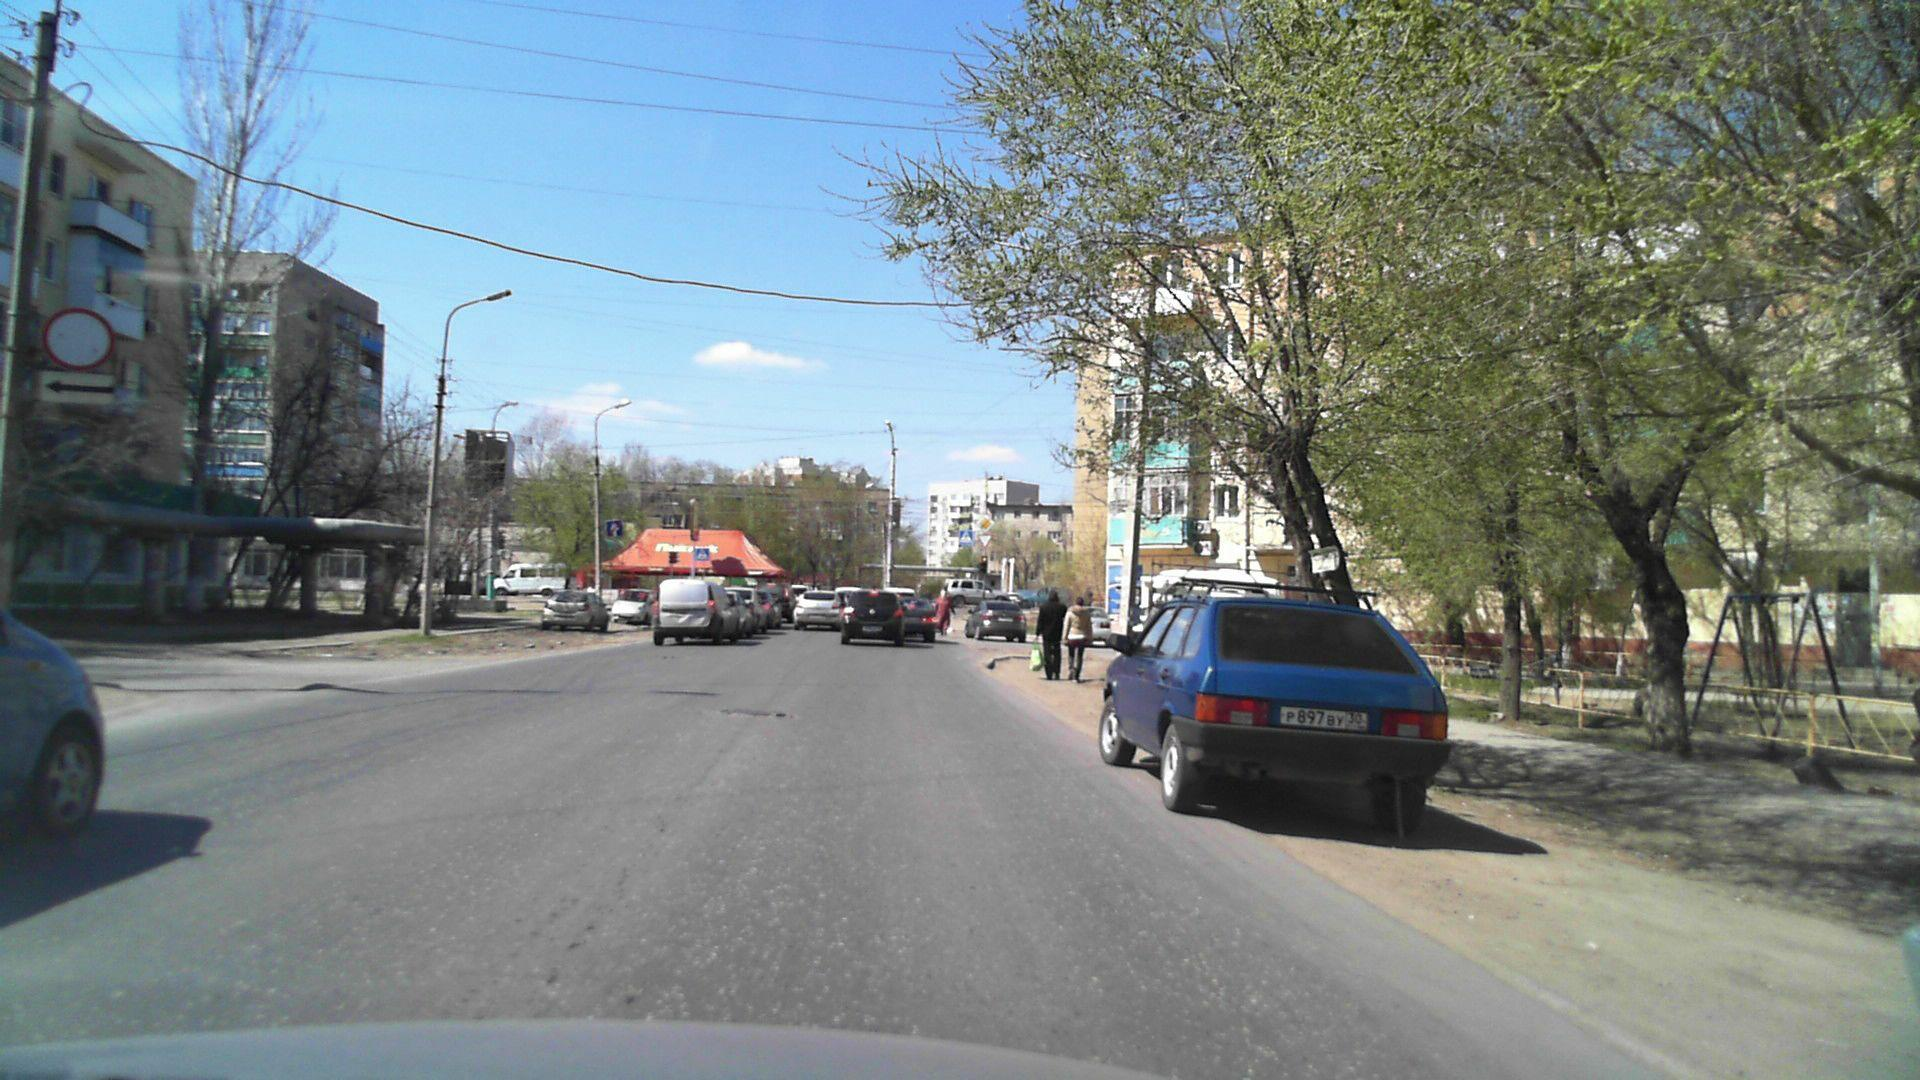2_2: (977, 513, 994, 533)
2_4: (978, 534, 992, 549)
3_2: (44, 307, 115, 372)
5_19_1: (959, 529, 973, 545)
5_19_2: (696, 547, 711, 562)
5_6: (605, 520, 625, 539)
8_3_2: (37, 372, 115, 404)
